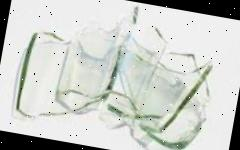glass: (13, 0, 226, 150)
